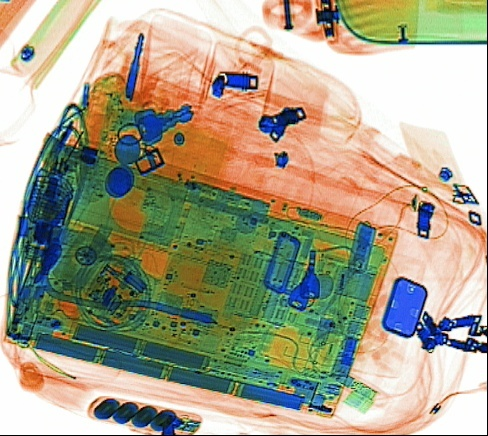powerbank: (82, 392, 201, 433)
